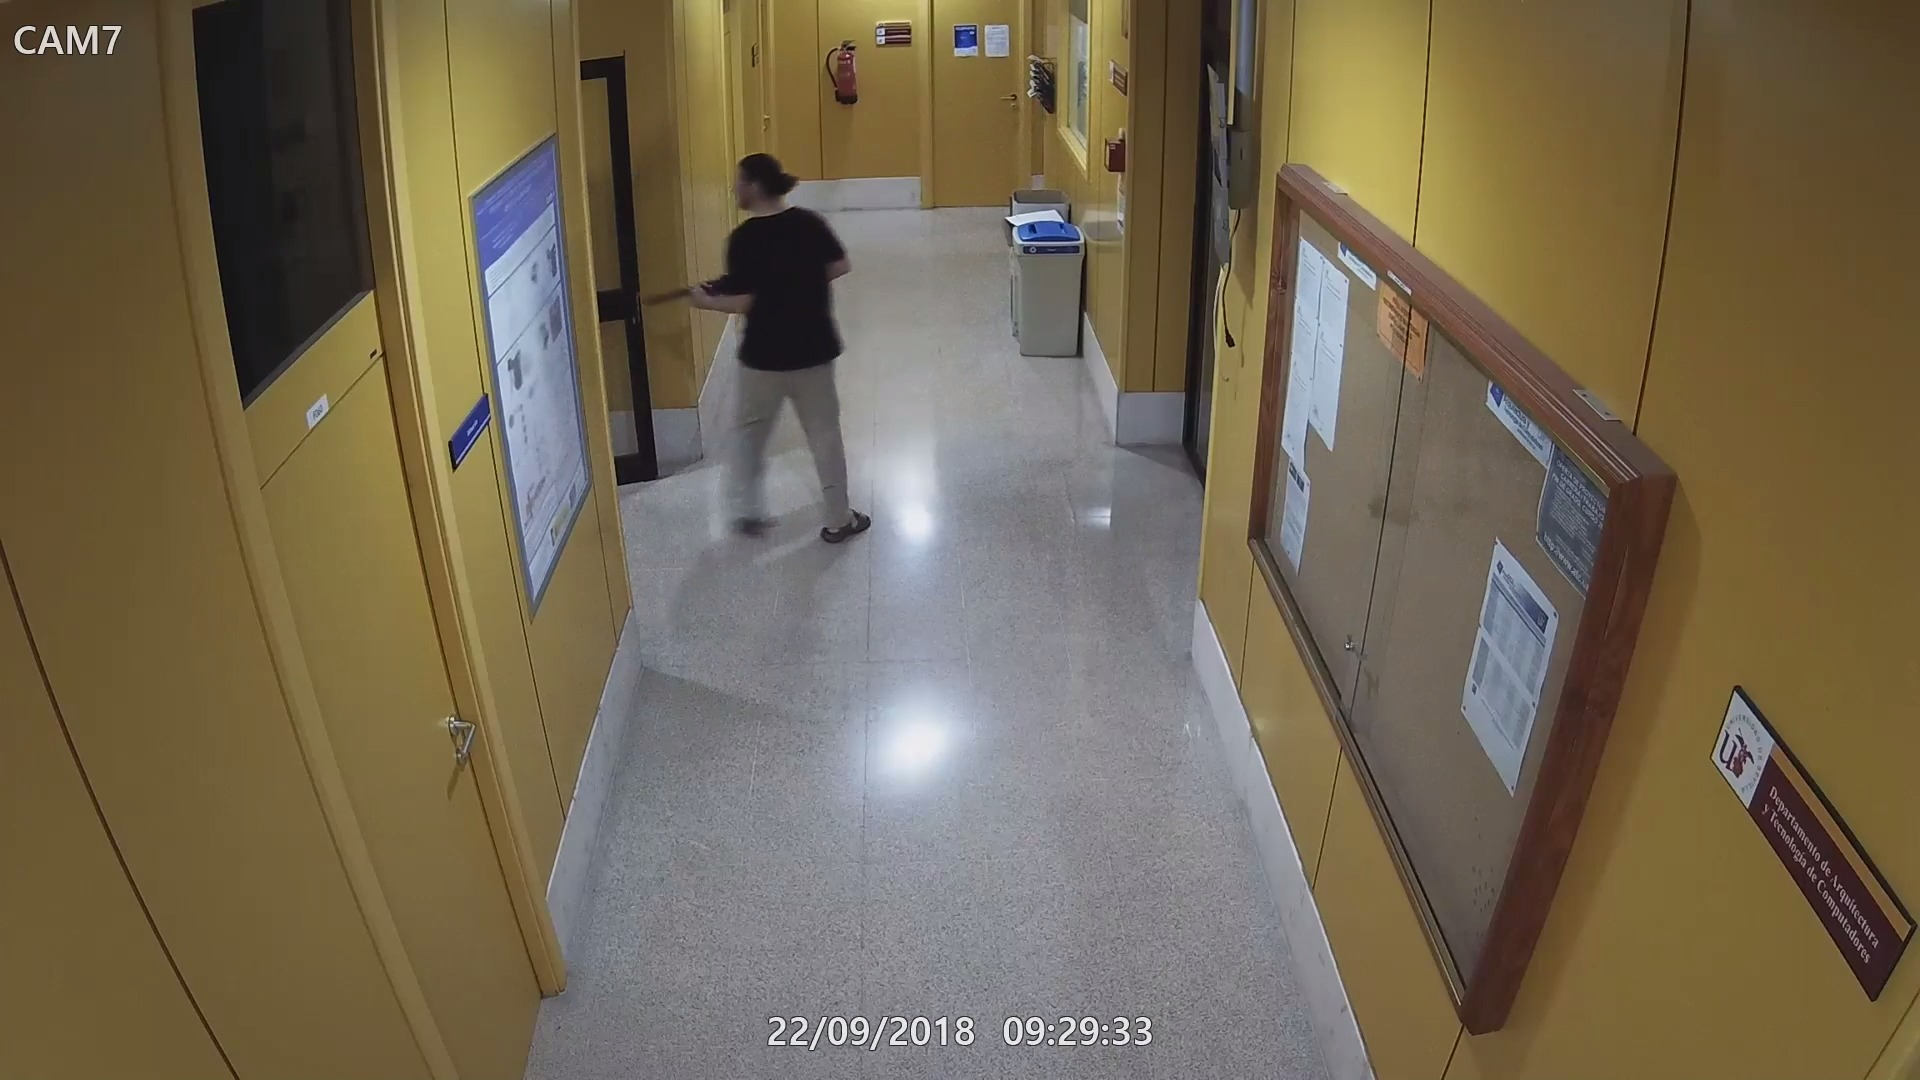Short_rifle: (640, 272, 729, 311)
